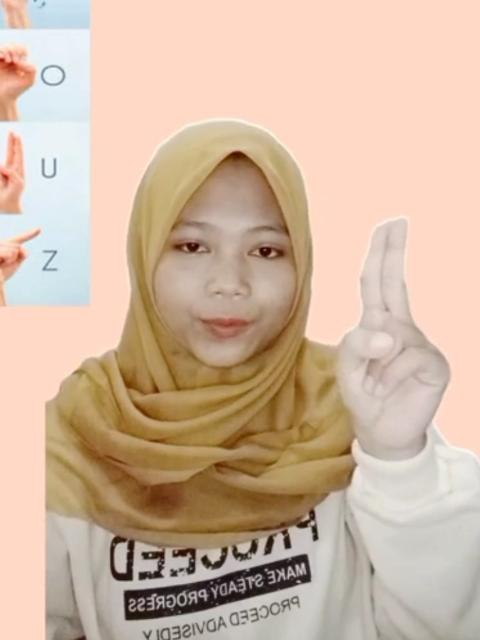U: (334, 209, 454, 451)
